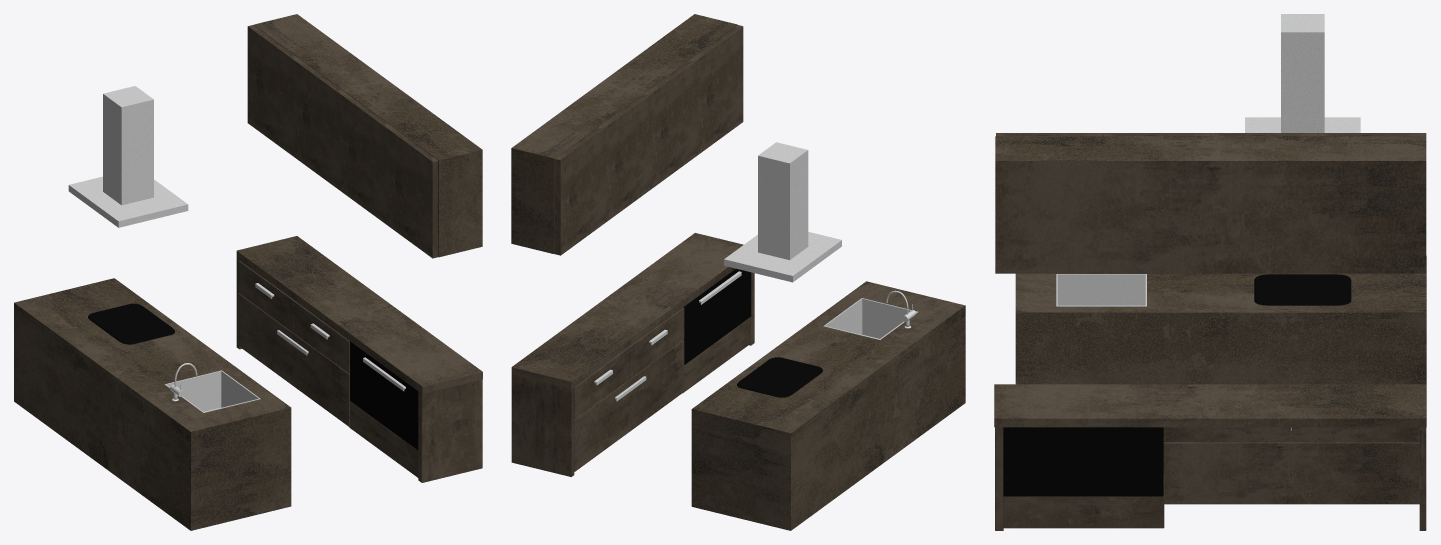
File: kitchen.fbx
3 views of the same model, side by side, from view 1: azimuth 30°, elevation 25°; view 2: azimuth 150°, elevation 25°; view 3: azimuth 270°, elevation 25° (orthographic). The views are drawn at different scales.
Visible parts, largest first — view 1: 立方体.037, 立方体.066, 立方体.069, 立方体.061, 立方体, 立方体.050, 立方体.048; view 2: 立方体.037, 立方体.066, 立方体.069, 立方体.061, 立方体, 立方体.050, 立方体.048; view 3: 立方体.061, 立方体.066, 立方体.037, 立方体, 立方体.050, 立方体.048, 立方体.069.
Part boxes in pixels (left/top/right/bottom): 立方体.037: left=14, top=278, right=291, bottom=530; 立方体.066: left=236, top=236, right=482, bottom=482; 立方体.069: left=247, top=25, right=438, bottom=258; 立方体.061: left=254, top=14, right=482, bottom=257; 立方体: left=68, top=86, right=188, bottom=227; 立方体.050: left=88, top=303, right=174, bottom=344; 立方体.048: left=164, top=370, right=260, bottom=412; 立方体.037: left=691, top=281, right=965, bottom=530; 立方体.066: left=511, top=233, right=754, bottom=476; 立方体.069: left=555, top=25, right=743, bottom=255; 立方体.061: left=511, top=14, right=737, bottom=254; 立方体: left=724, top=142, right=841, bottom=282; 立方体.050: left=737, top=357, right=822, bottom=397; 立方体.048: left=823, top=298, right=918, bottom=339; 立方体.061: left=995, top=136, right=1426, bottom=273; 立方体.066: left=994, top=384, right=1426, bottom=530; 立方体.037: left=1015, top=256, right=1426, bottom=427; 立方体: left=1245, top=14, right=1360, bottom=132; 立方体.050: left=1254, top=274, right=1351, bottom=305; 立方体.048: left=1056, top=274, right=1146, bottom=306; 立方体.069: left=996, top=133, right=1426, bottom=136.
Bounding box in the file's own units: 252 × 280 × 287.
